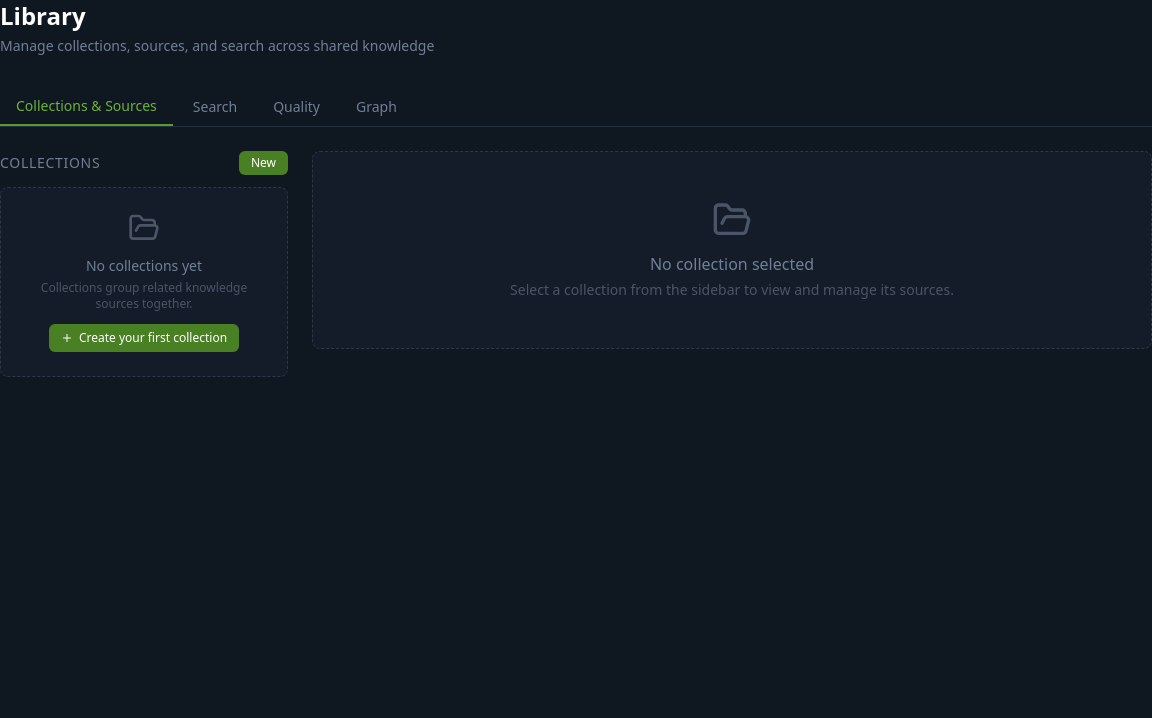
Test: SharedKnowledgeQuality › displays summary cards with values
The image size is (1152, 718).
Expected: the heading "Library" is shown, [0,0,86,32]
Step 1. Click the button "Quality" → (297, 107), box [257,88,336,126]
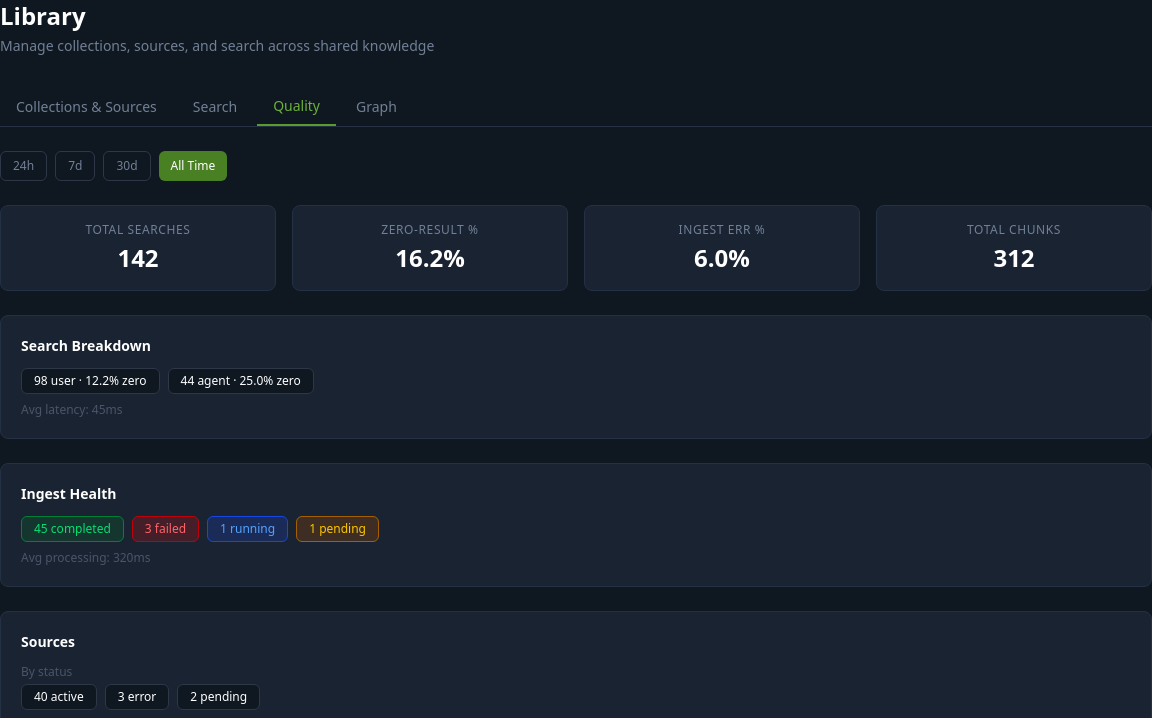
Expected: the text "Total Searches" is shown, [86,221,190,238]
Expected: the text "Zero-Result %" is shown, [381,221,479,238]
Expected: the text "Ingest Err %" is shown, [679,221,766,238]
